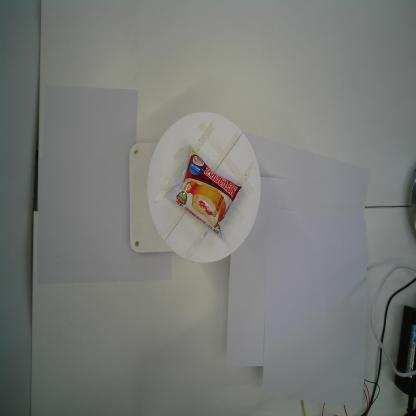Dessert: (163, 142, 247, 246)
